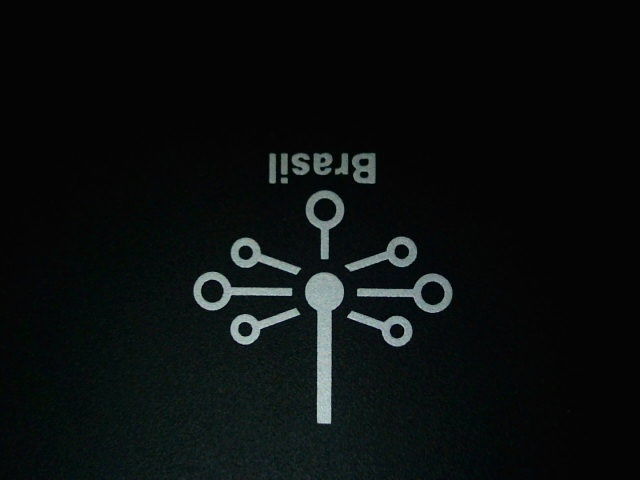BG_Brasil: (170, 133, 474, 443)
